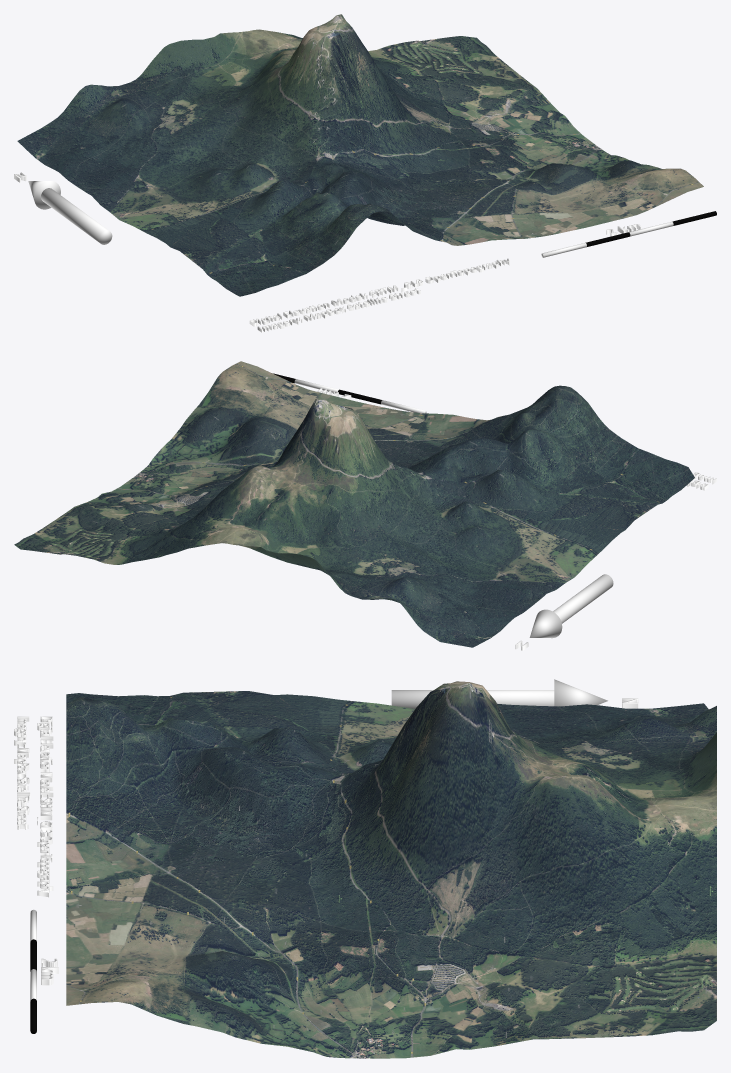
The model's file is puy-de-dome.glb.
3 renders of one model, top to bottom at view 1: azimuth 30°, elevation 25°; view 2: azimuth 150°, elevation 25°; view 3: azimuth 270°, elevation 25°, orthographic. The views are drawn at different scales.
Parts seen in each view (by area): view 1: TerrainNode_0, Adornments_1; view 2: TerrainNode_0, Adornments_1; view 3: TerrainNode_0, Adornments_1.
Boxes of the visible parts, x1,y1,x2,y2 form: TerrainNode_0: (17,14,703,296); Adornments_1: (14,172,716,332); TerrainNode_0: (14,361,694,647); Adornments_1: (273,373,716,650); TerrainNode_0: (66,681,716,1058); Adornments_1: (14,679,638,1033).
Size of the model in its own units: 8209 by 2508 by 7183.
2 materials, 1 textured.
